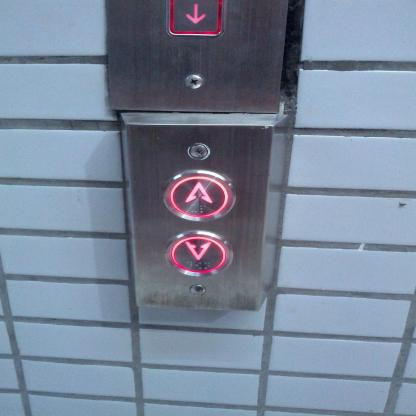down: (163, 229, 235, 280), (166, 0, 227, 37)
up: (160, 166, 238, 223)
